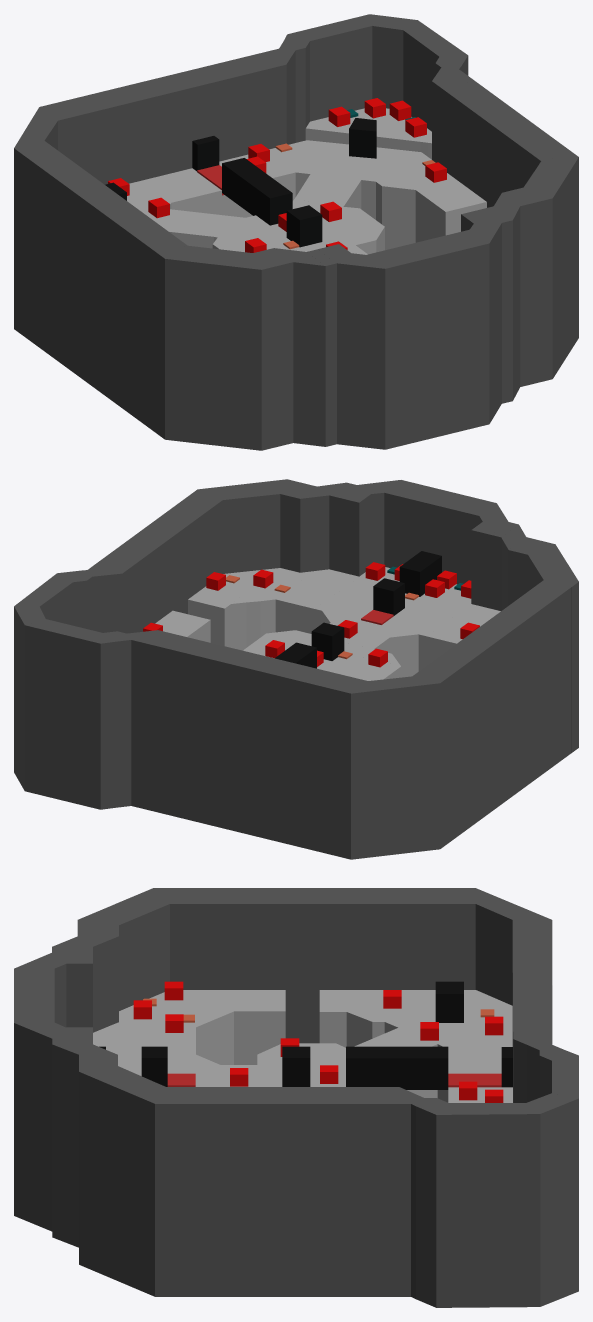
File: Lvl3_Room2.fbx
3 renders of one model, top to bottom at view 1: azimuth 30°, elevation 25°; view 2: azimuth 150°, elevation 25°; view 3: azimuth 270°, elevation 25°, orthographic. The views are drawn at different scales.
Visible parts, largest first — view 1: Walls45, Walls35, Walls47, Walls44, Walls43, Walls26, Walls37, Walls29, Walls40, Walls28, Walls52, Walls41 (+30 smaller); view 2: Walls47, Walls45, Walls46, Walls52, Walls26, Walls35, Walls28, Walls31, Walls49, Walls50, Floor287, Walls30 (+34 smaller); view 3: Walls26, Walls45, Walls54, Walls28, Walls53, Walls36, Walls30, Floor299, Walls47, Walls57, Column121, Walls55 (+34 smaller).
Part boxes in pixels (left/top/right/bottom): Walls45: left=14, top=141, right=187, bottom=433; Walls35: left=367, top=229, right=488, bottom=449; Walls47: left=40, top=51, right=286, bottom=184; Walls44: left=157, top=245, right=213, bottom=445; Walls43: left=188, top=245, right=261, bottom=450; Walls26: left=441, top=80, right=573, bottom=207; Walls37: left=337, top=253, right=385, bottom=449; Walls29: left=502, top=187, right=552, bottom=386; Walls40: left=274, top=248, right=325, bottom=446; Walls28: left=523, top=157, right=578, bottom=378; Walls52: left=297, top=14, right=372, bottom=121; Walls41: left=253, top=248, right=293, bottom=447; Walls47: left=141, top=630, right=367, bottom=859; Walls45: left=412, top=580, right=571, bottom=848; Walls46: left=351, top=676, right=440, bottom=859; Walls52: left=24, top=619, right=102, bottom=807; Walls26: left=102, top=493, right=222, bottom=632; Walls35: left=384, top=480, right=496, bottom=584; Walls28: left=198, top=479, right=286, bottom=572; Walls31: left=329, top=487, right=370, bottom=576; Walls49: left=115, top=632, right=141, bottom=807; Walls50: left=100, top=631, right=126, bottom=809; Floor287: left=330, top=576, right=456, bottom=652; Walls30: left=300, top=482, right=346, bottom=572; Walls26: left=166, top=1087, right=378, bottom=1296; Walls45: left=170, top=888, right=475, bottom=1043; Walls54: left=436, top=1103, right=540, bottom=1307; Walls28: left=79, top=1066, right=154, bottom=1296; Walls53: left=526, top=1093, right=578, bottom=1306; Walls36: left=14, top=1022, right=52, bottom=1231; Walls30: left=52, top=1044, right=116, bottom=1247; Floor299: left=119, top=990, right=285, bottom=1064; Walls47: left=512, top=920, right=552, bottom=1102; Walls57: left=378, top=1087, right=399, bottom=1296; Column121: left=346, top=1046, right=448, bottom=1089; Walls55: left=416, top=1098, right=447, bottom=1307.
Bounding box in the file's own units: 49.63 × 19.68 × 52.22.
